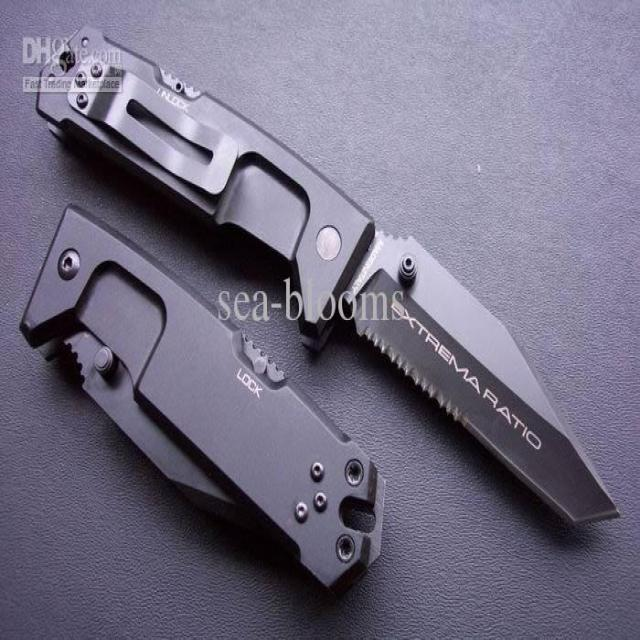knife: (38, 27, 625, 552)
